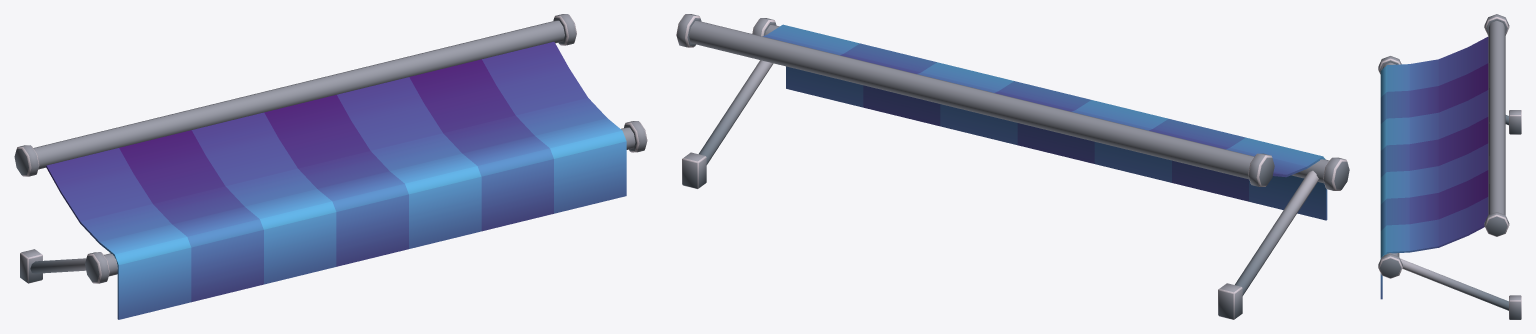
Rendered from sp_build_prop_awning02.fbx.
The picture shows the model from 3 angles, left to right: view 1: azimuth 30°, elevation 25°; view 2: azimuth 150°, elevation 25°; view 3: azimuth 270°, elevation 25°; orthographic projection. The views are drawn at different scales.
Parts seen in each view (by area): view 1: build_prop_awning_02; view 2: build_prop_awning_02; view 3: build_prop_awning_02.
Part boxes in pixels (left/top/right/bottom): build_prop_awning_02: left=14, top=14, right=647, bottom=319; build_prop_awning_02: left=676, top=14, right=1349, bottom=319; build_prop_awning_02: left=1378, top=14, right=1521, bottom=319.
Bounding box in the file's own units: 491 × 125 × 148.
